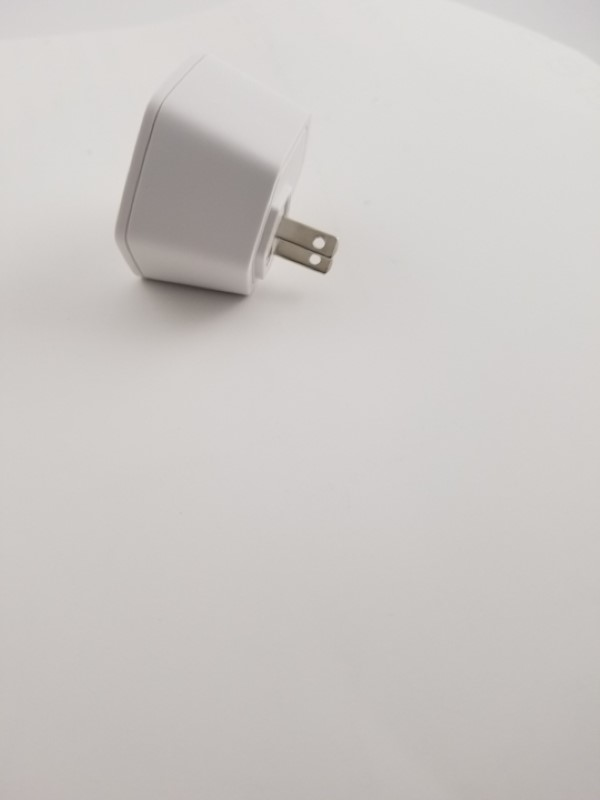pod: (110, 45, 350, 303)
